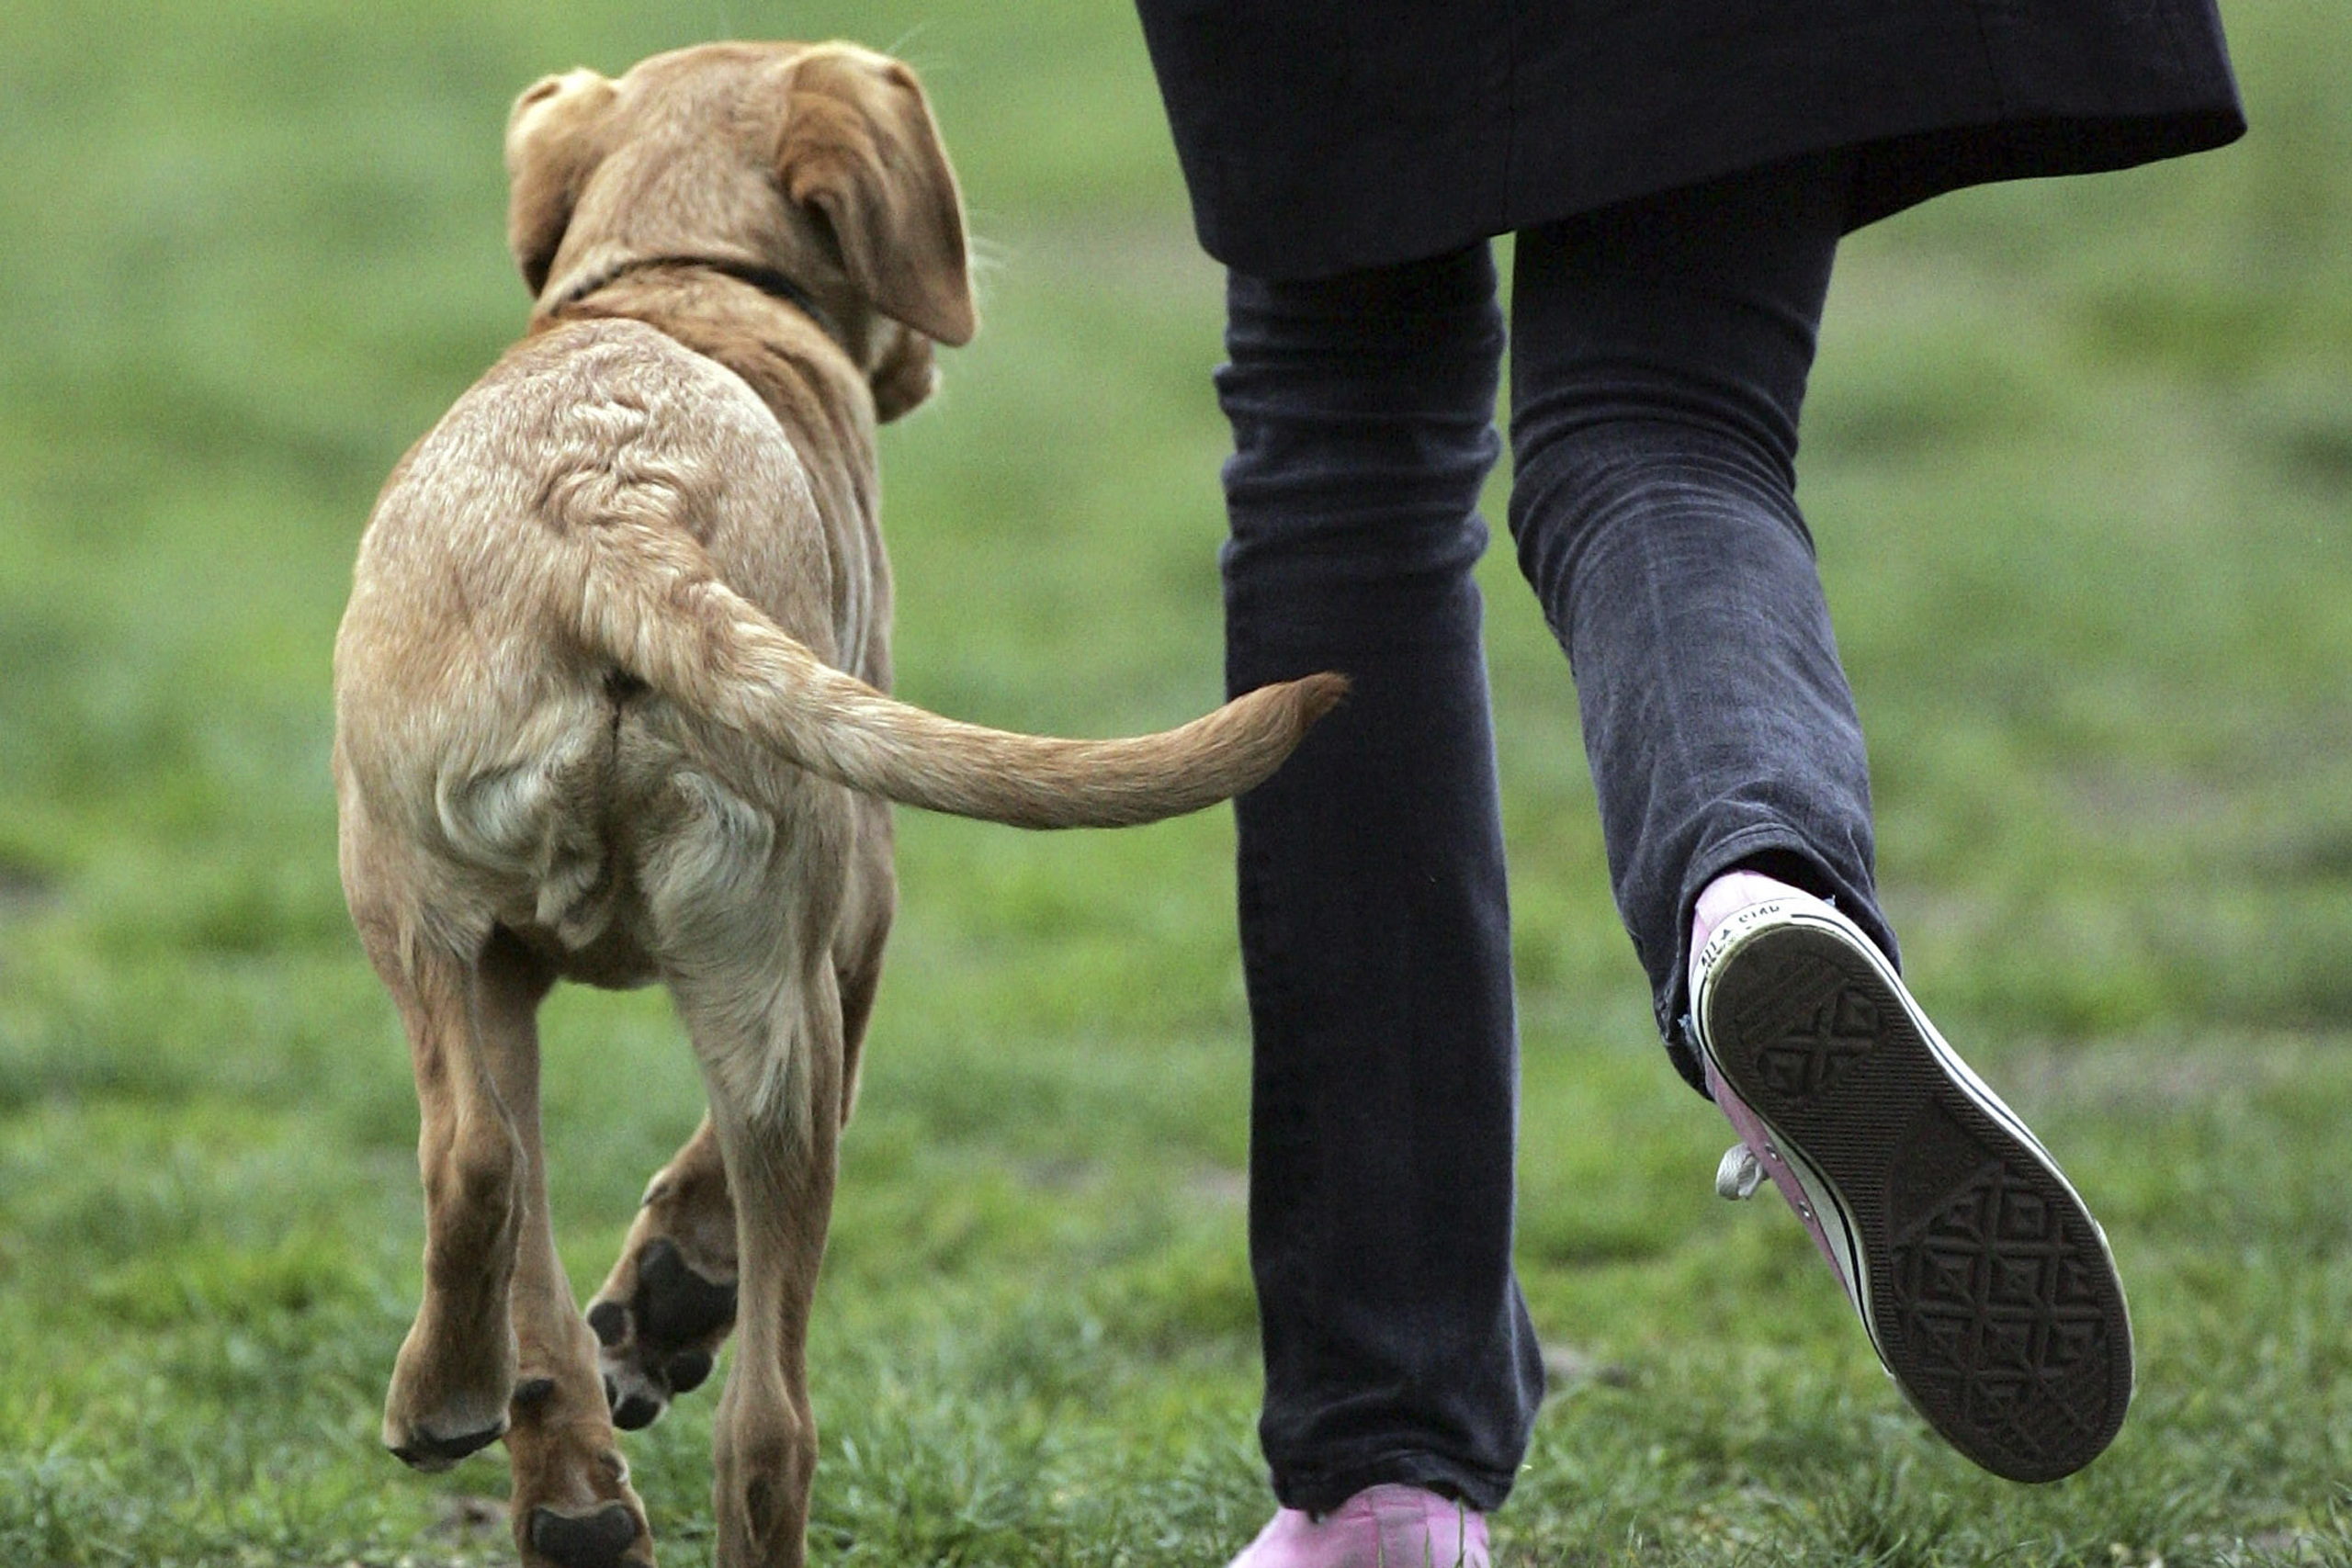tail: (539, 448, 1363, 854)
